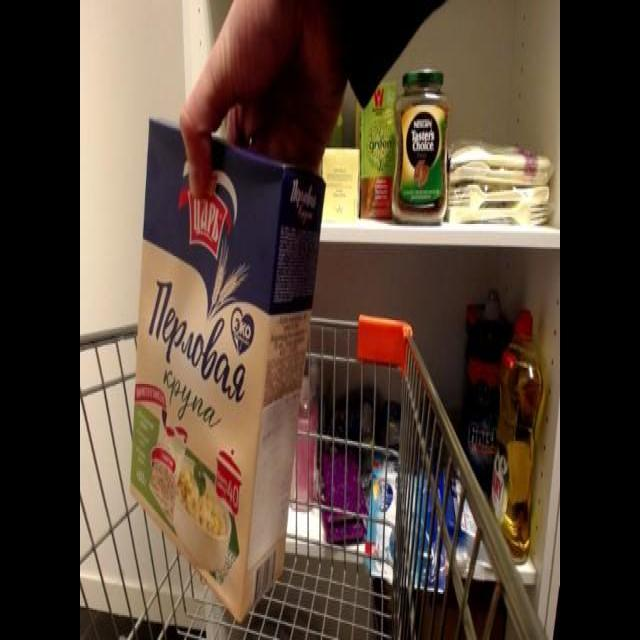Groats: (125, 105, 330, 627)
